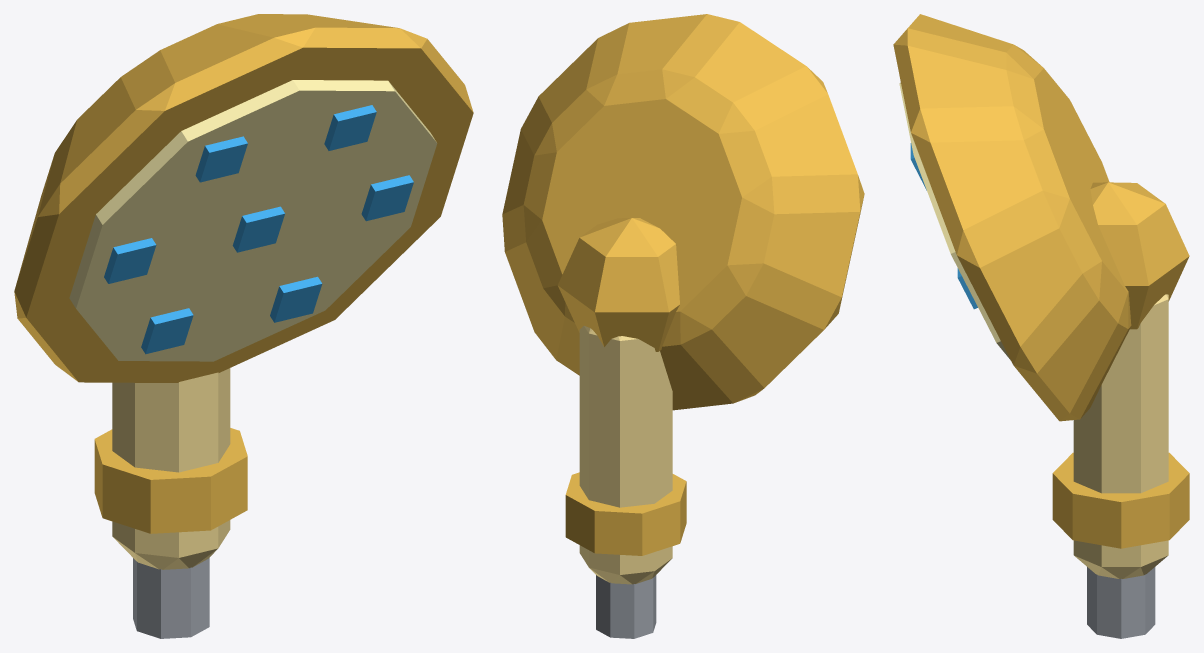
The model's file is CleanACat_Tool_ShowerGolden.fbx.
3 views of the same model, side by side, from view 1: azimuth 30°, elevation 25°; view 2: azimuth 150°, elevation 25°; view 3: azimuth 270°, elevation 25° (orthographic). The views are drawn at different scales.
Parts seen in each view (by area): view 1: CleanACat_Tool_ShowerGolden; view 2: CleanACat_Tool_ShowerGolden; view 3: CleanACat_Tool_ShowerGolden.
Part boxes in pixels (left/top/right/bottom): CleanACat_Tool_ShowerGolden: left=14, top=14, right=473, bottom=638; CleanACat_Tool_ShowerGolden: left=502, top=14, right=864, bottom=638; CleanACat_Tool_ShowerGolden: left=893, top=14, right=1189, bottom=638.
Size of the model in its own units: 1 by 1.52 by 0.6924.
1 material, 1 textured.
